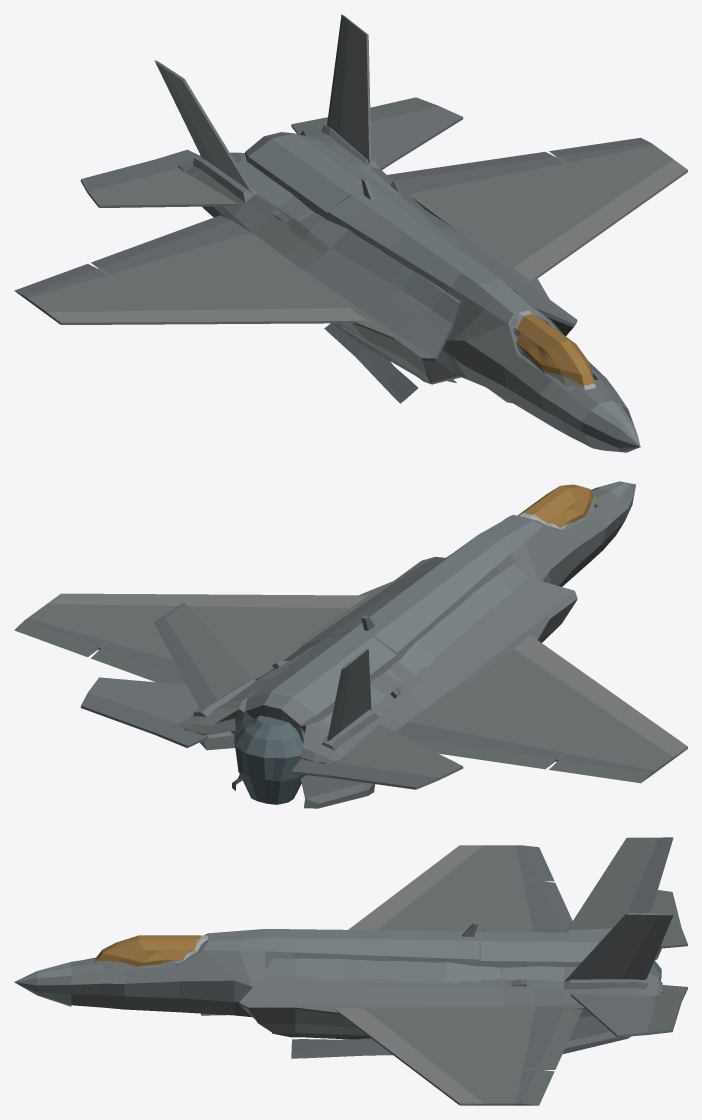
The picture shows the model from 3 angles, top to bottom: view 1: azimuth 30°, elevation 25°; view 2: azimuth 150°, elevation 25°; view 3: azimuth 270°, elevation 25°; orthographic projection. The views are drawn at different scales.
Parts seen in each view (by area): view 1: F35_SIpriv; view 2: F35_SIpriv; view 3: F35_SIpriv.
Boxes of the visible parts, bbox=[...] form: F35_SIpriv: bbox=[14, 14, 687, 452]; F35_SIpriv: bbox=[14, 481, 687, 808]; F35_SIpriv: bbox=[14, 837, 687, 1105].
Bounding box in the file's own units: 0.4353 × 0.1286 × 0.48.
Materials: 11 (10 with a texture image).
